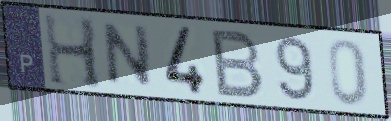0: (325, 36, 371, 109)
4: (162, 23, 209, 96)
9: (270, 34, 317, 103)
B: (210, 27, 268, 101)
H: (41, 10, 106, 91)
N: (102, 20, 154, 89)
